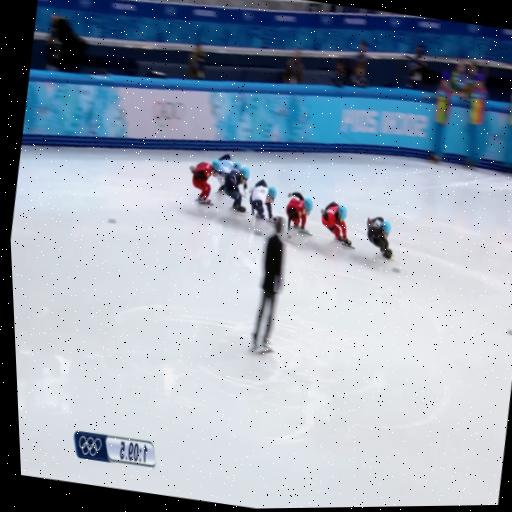Skater: (321, 202, 350, 246), (285, 192, 311, 238), (223, 166, 248, 212), (249, 179, 275, 222), (366, 218, 392, 258), (214, 155, 240, 193), (190, 162, 213, 204)
